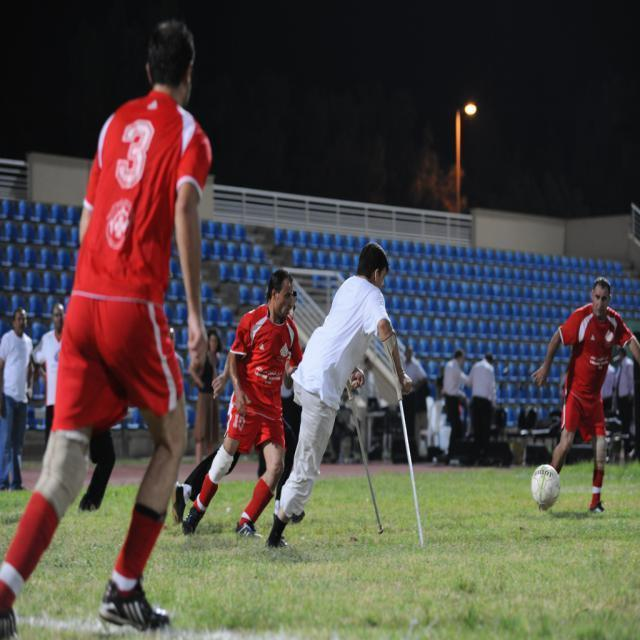ball: (530, 462, 561, 521)
